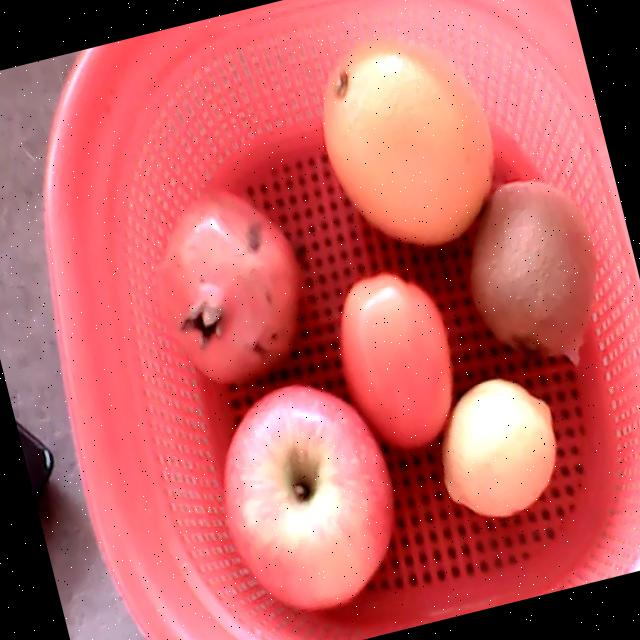apple: (222, 383, 394, 610)
kiwi: (469, 180, 595, 358)
lemon: (442, 379, 555, 517)
orange: (322, 38, 494, 244)
pomegranate: (155, 191, 299, 385)
tomato: (339, 271, 452, 448)
